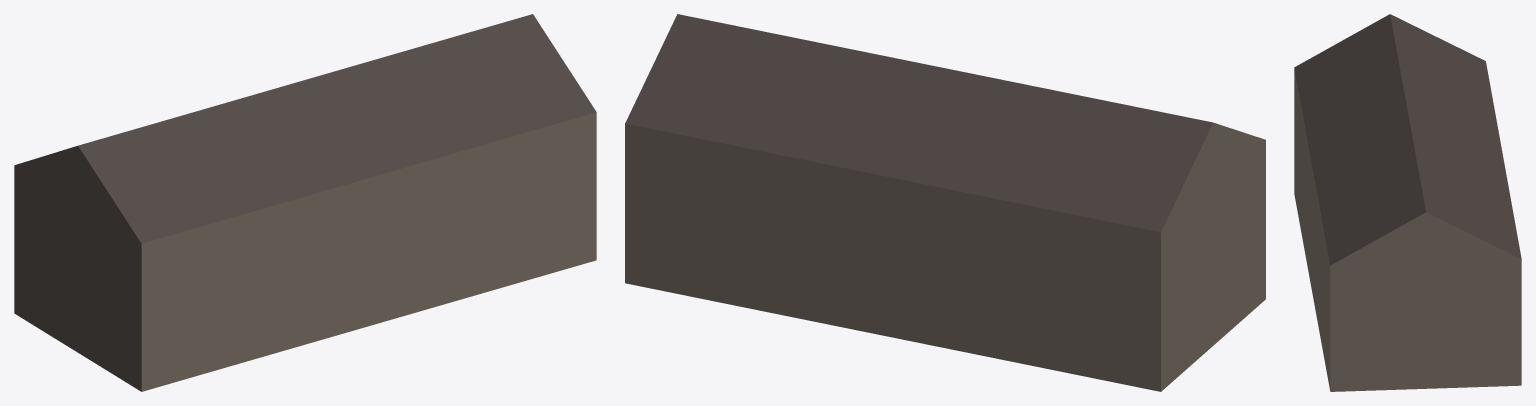
3 views of the same model, side by side, from view 1: azimuth 30°, elevation 25°; view 2: azimuth 150°, elevation 25°; view 3: azimuth 270°, elevation 25° (orthographic). The views are drawn at different scales.
Parts seen in each view (by area): view 1: HP-w858824306; view 2: HP-w858824306; view 3: HP-w858824306.
Boxes of the visible parts, x1,y1,x2,y2 form: HP-w858824306: (14,14,596,391); HP-w858824306: (625,14,1265,391); HP-w858824306: (1294,14,1521,391).
Size of the model in its own units: 20.83 by 8.39 by 9.79.
